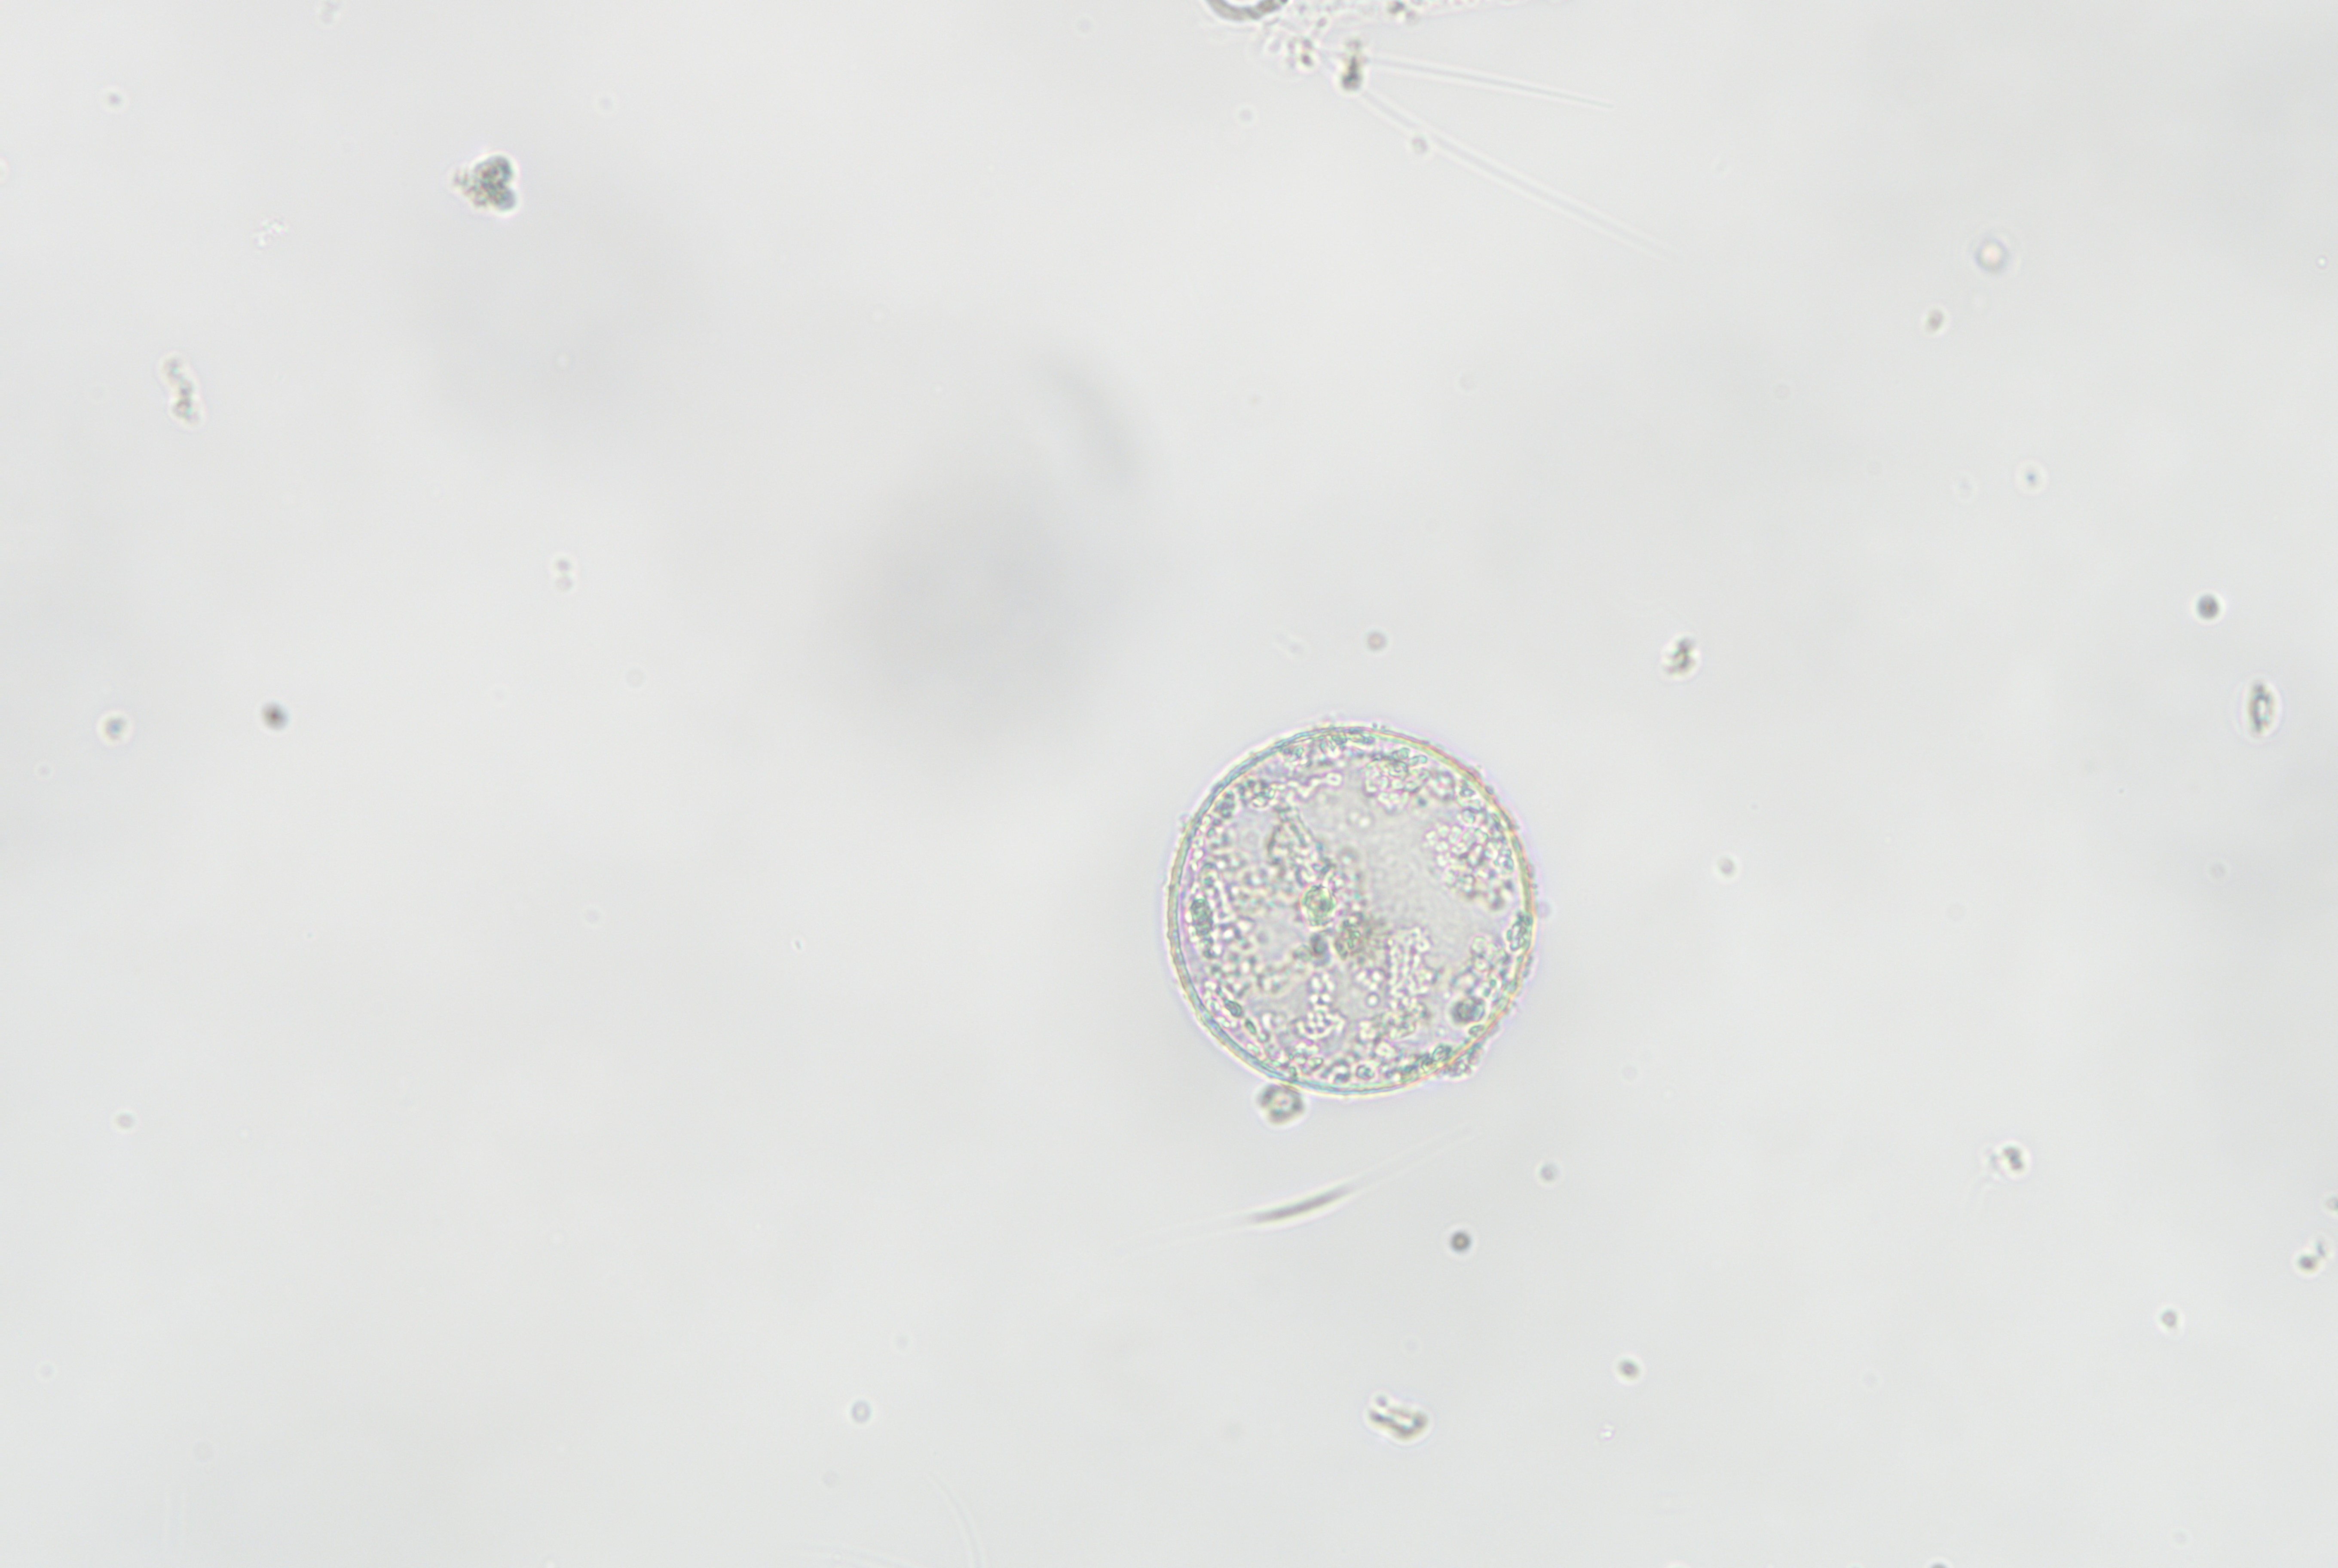coscinodiscus: (1138, 696, 1566, 1111)
